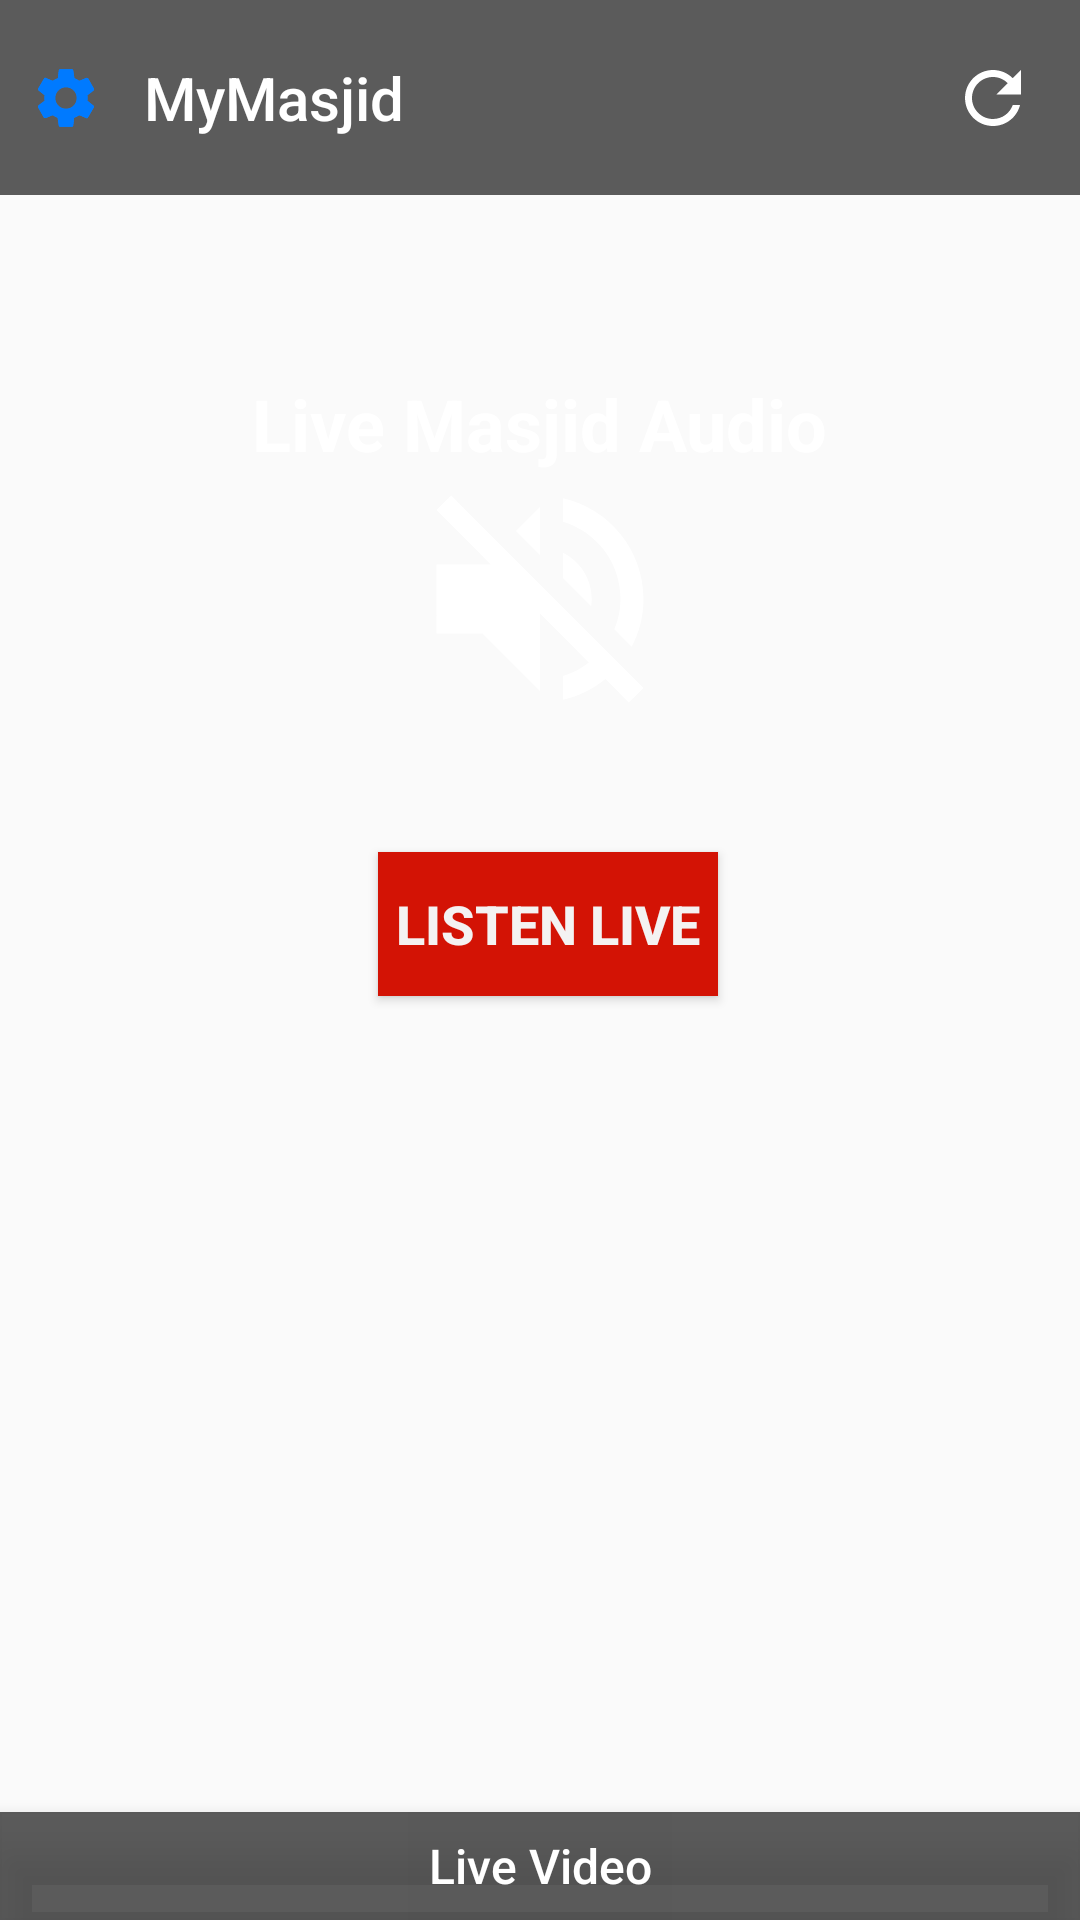

Icons on this 1080 × 1920 Android screen, each with its box as bbox=[x1, y1, x2, y2]:
refresh: bbox=[965, 70, 1021, 126]
Settings: bbox=[38, 69, 94, 127]
